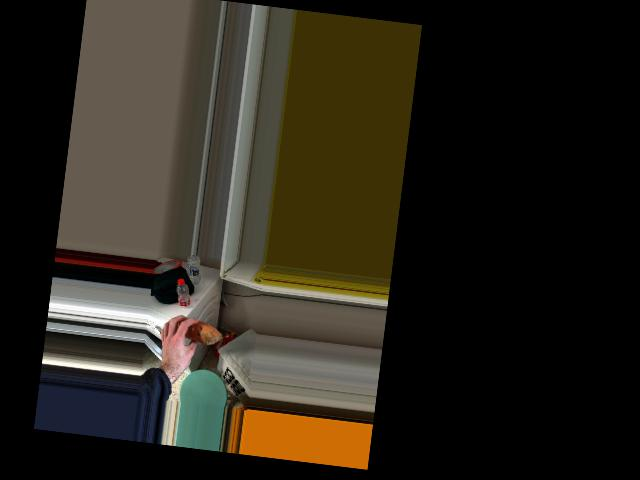sweet_potato: (180, 321, 214, 340)
